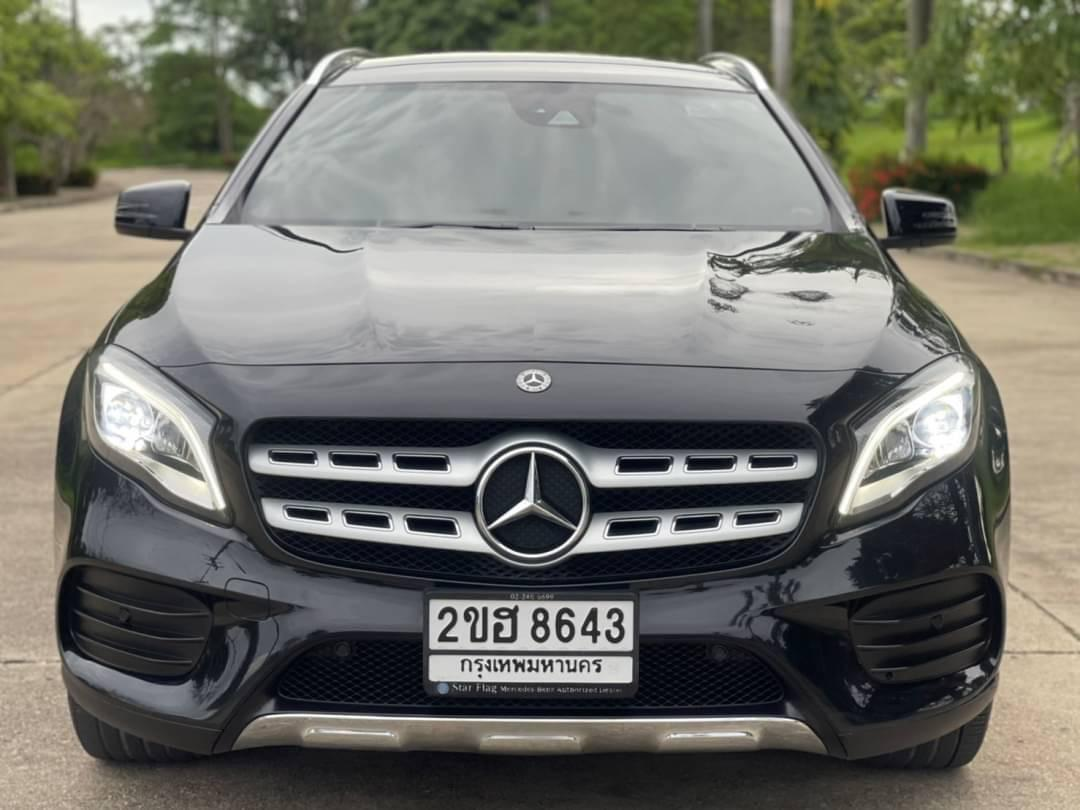license-plate: (419, 588, 639, 701)
